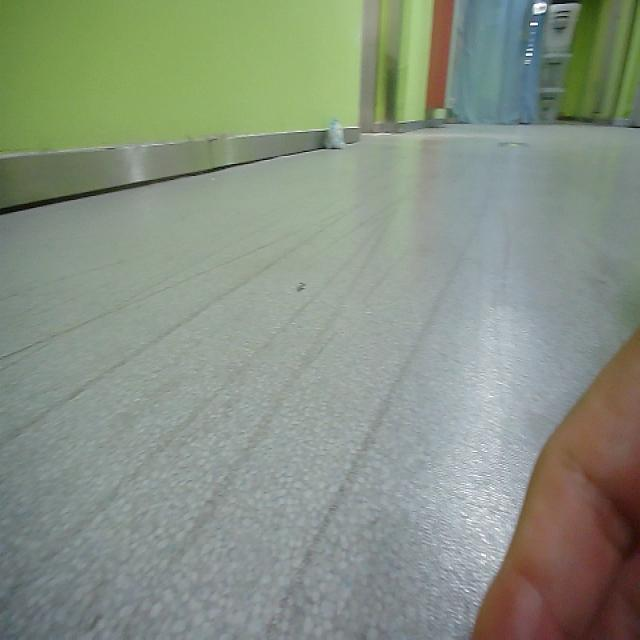xiaoba: (328, 114, 351, 156)
